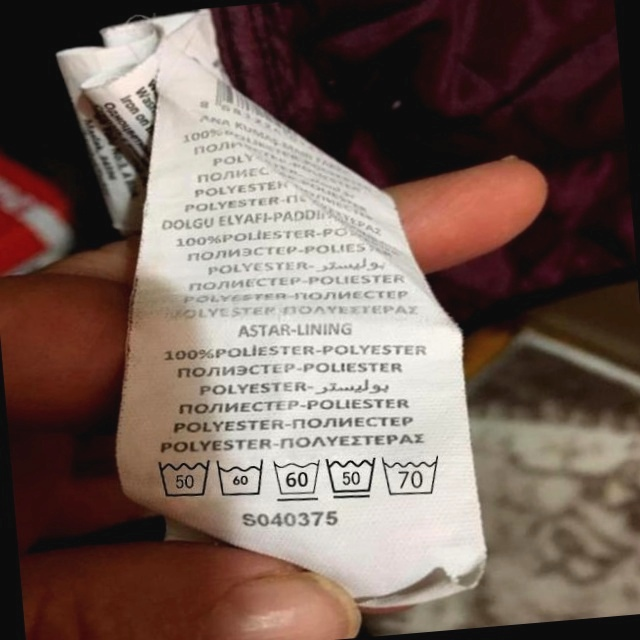50C: (151, 449, 217, 505), (322, 451, 382, 504)
60C: (270, 452, 327, 504), (213, 453, 271, 503)
70C: (381, 450, 448, 500)
